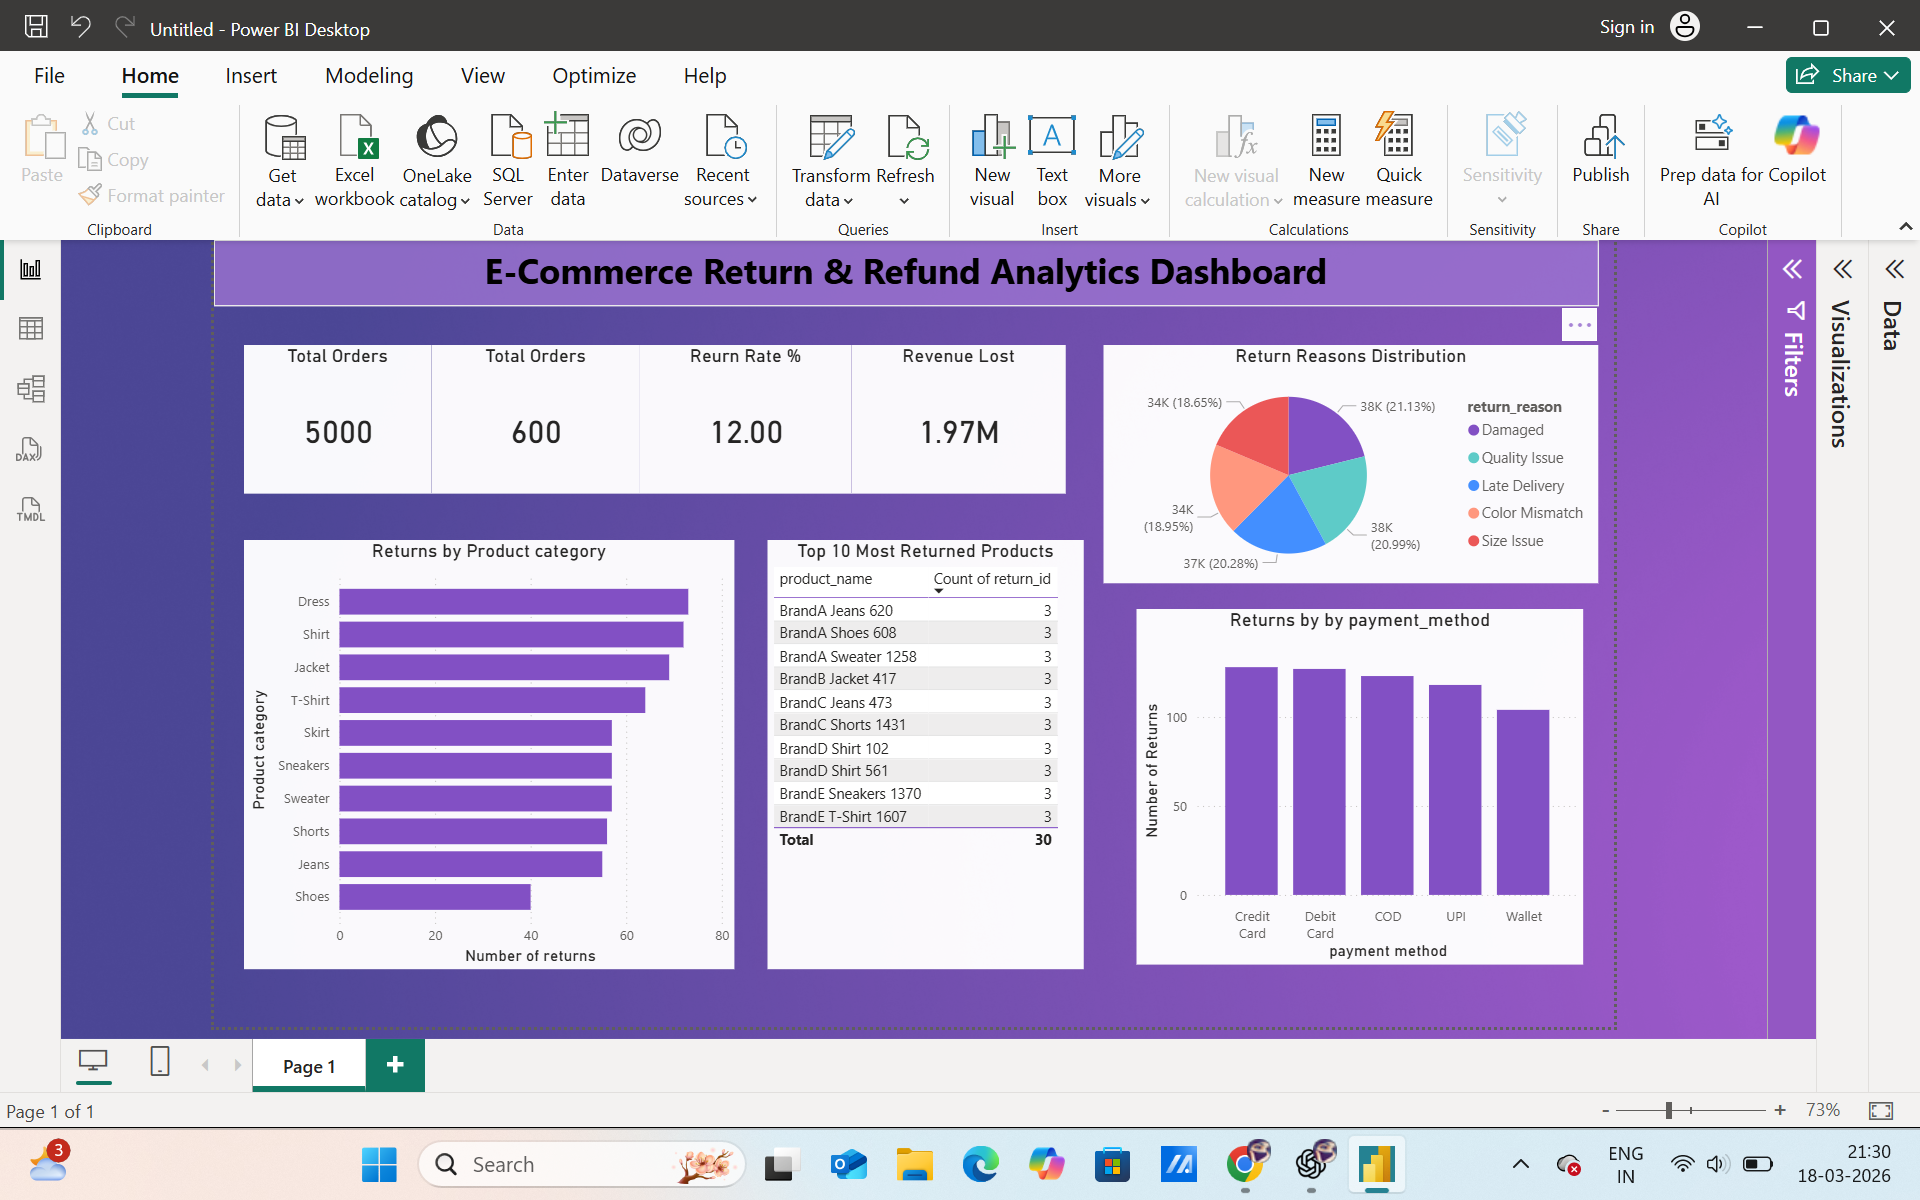

The dashboard page shown, as its layout file describes it:
{"tool":"powerbi","page":{"name":"Page 1","canvas":[1280,720],"ordinal":0},"visuals":[{"type":"card","title":"Total Orders","fields":{"Values":["customers (1).Total orders"]},"box":[27.4,96.1,171.5,135.9],"z":0},{"type":"card","title":"Total Orders","fields":{"Values":["customers (1).Total Returns"]},"box":[199,96.1,190.8,135.9],"z":1000},{"type":"card","title":"Reurn Rate %","fields":{"Values":["customers (1).Return Rate %"]},"box":[389.7,96.1,193.5,135.9],"z":2000},{"type":"card","title":"Revenue Lost","fields":{"Values":["customers (1).Revenue Lost"]},"box":[583.2,96.1,196.2,135.9],"z":3000},{"type":"clusteredBarChart","title":"Returns by Product category","fields":{"Category":["products.category"],"Y":["CountNonNull(returns.return_id)"]},"box":[27.4,274.5,448.8,392.5],"z":4000},{"type":"pieChart","title":"Return Reasons Distribution","fields":{"Category":["returns.return_reason"],"Y":["Sum(returns.return_id)"]},"box":[813.8,96.1,452.9,218.2],"z":5000},{"type":"clusteredColumnChart","title":"Returns by by payment_method","fields":{"Category":["orders.payment_method"],"Y":["CountNonNull(returns.return_id)"]},"box":[844,337.6,409,325.2],"z":6000},{"type":"tableEx","title":"Top 10 Most Returned Products","fields":{"Values":["products.product_name","CountNonNull(returns.return_id)"]},"box":[506.4,274.5,289.6,392.5],"z":7000},{"type":"textbox","box":[0,0,1266.7,60.4],"z":7001}]}

Visuals, with their boxes on the page's 1280x720 design canvas (x1, y1, x2, y2). These are canvas units, not pixel positions in the 1920x1200 screenshot, which may show the page scaled, cropped or inside an application window:
"Total Orders" card: (x1=27, y1=96, x2=199, y2=232)
"Total Orders" card: (x1=199, y1=96, x2=390, y2=232)
"Reurn Rate %" card: (x1=390, y1=96, x2=583, y2=232)
"Revenue Lost" card: (x1=583, y1=96, x2=779, y2=232)
"Returns by Product category" clusteredBarChart: (x1=27, y1=274, x2=476, y2=667)
"Return Reasons Distribution" pieChart: (x1=814, y1=96, x2=1267, y2=314)
"Returns by by payment_method" clusteredColumnChart: (x1=844, y1=338, x2=1253, y2=663)
"Top 10 Most Returned Products" tableEx: (x1=506, y1=274, x2=796, y2=667)
textbox: (x1=0, y1=0, x2=1267, y2=60)
